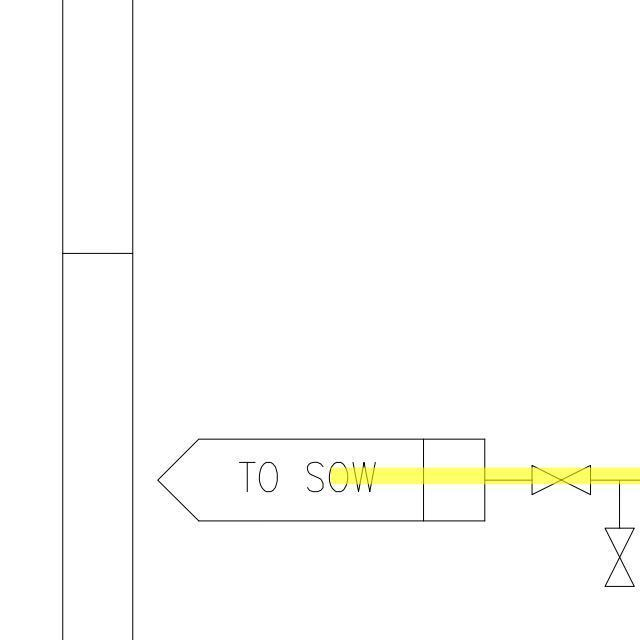GV: (527, 460, 597, 500), (601, 521, 638, 591)
